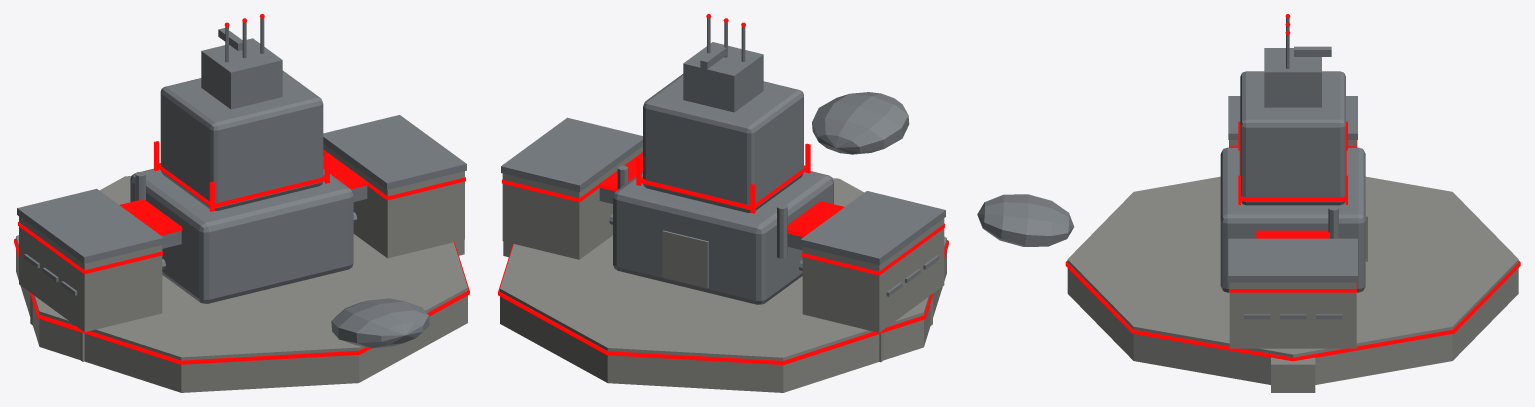
Rendered from crimson_command_fortress.glb.
3 renders of one model, left to right at view 1: azimuth 30°, elevation 25°; view 2: azimuth 150°, elevation 25°; view 3: azimuth 270°, elevation 25°, orthographic. The views are drawn at different scales.
Visible parts, largest first — view 1: CrimsonCommandFortress; view 2: CrimsonCommandFortress; view 3: CrimsonCommandFortress.
Part boxes in pixels (x1,y1,x2,y2): CrimsonCommandFortress: (14, 14, 469, 392); CrimsonCommandFortress: (498, 14, 948, 392); CrimsonCommandFortress: (977, 14, 1520, 392).
Size of the model in its own units: 7.07 by 4.58 by 8.31.
